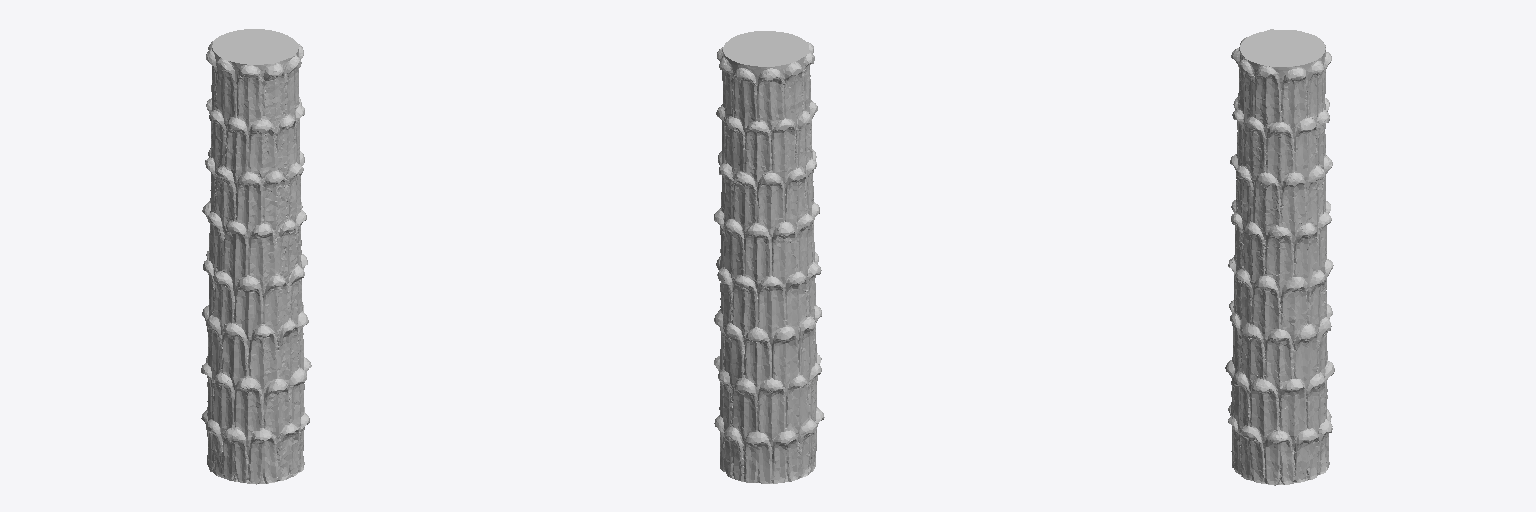
The model's file is florian_second_storey.obj.
3 renders of one model, left to right at view 1: azimuth 30°, elevation 25°; view 2: azimuth 150°, elevation 25°; view 3: azimuth 270°, elevation 25°, orthographic.
Parts seen in each view (by area): view 1: Florian_second_storey; view 2: Florian_second_storey; view 3: Florian_second_storey.
Part boxes in pixels (x1,y1,x2,y2): Florian_second_storey: (201,29,311,484); Florian_second_storey: (714,31,824,483); Florian_second_storey: (1225,29,1334,485).
Size of the model in its own units: 1.05 by 4.4 by 1.05.